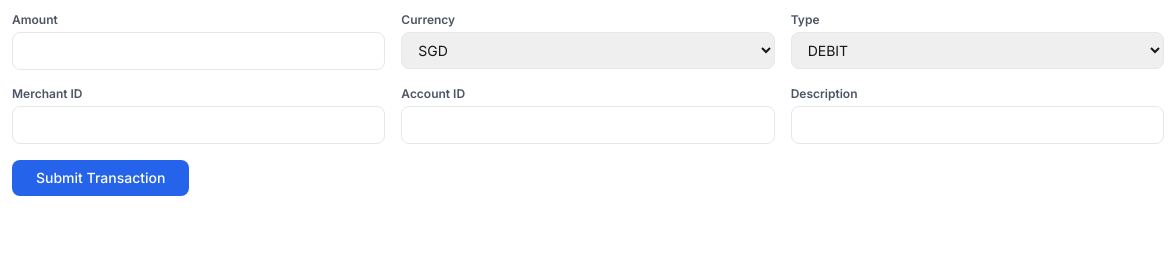
it: TransactionForm › shows validation error when amount is empty on submit
Click the button "Submit Transaction" at (101, 178), box x1=12 y1=160 x2=189 y2=196
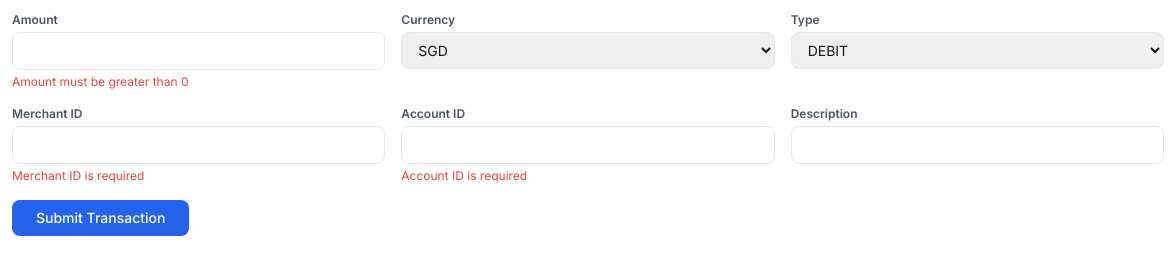
Result: the text "Amount must be greater than 0" is shown at x1=12 y1=74 x2=188 y2=89
